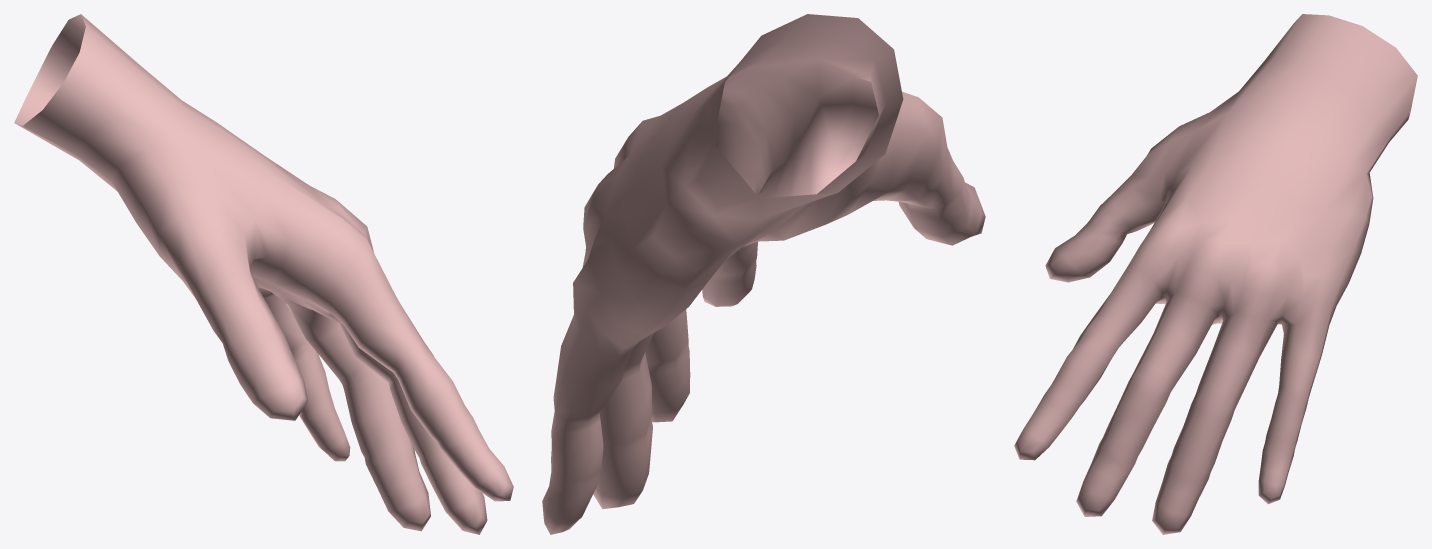
The model's file is Anime_Male_A_Hand02.fbx.
The picture shows the model from 3 angles, left to right: view 1: azimuth 30°, elevation 25°; view 2: azimuth 150°, elevation 25°; view 3: azimuth 270°, elevation 25°; orthographic projection. The views are drawn at different scales.
Visible parts, largest first — view 1: Anime_Male_A_Hand02; view 2: Anime_Male_A_Hand02; view 3: Anime_Male_A_Hand02.
Part boxes in pixels (x1=…): Anime_Male_A_Hand02: x1=14, y1=14, x2=513, y2=534; Anime_Male_A_Hand02: x1=542, y1=14, x2=985, y2=534; Anime_Male_A_Hand02: x1=1014, y1=14, x2=1417, y2=534.
Size of the model in its own units: 0.6894 by 1.01 by 0.8797.
